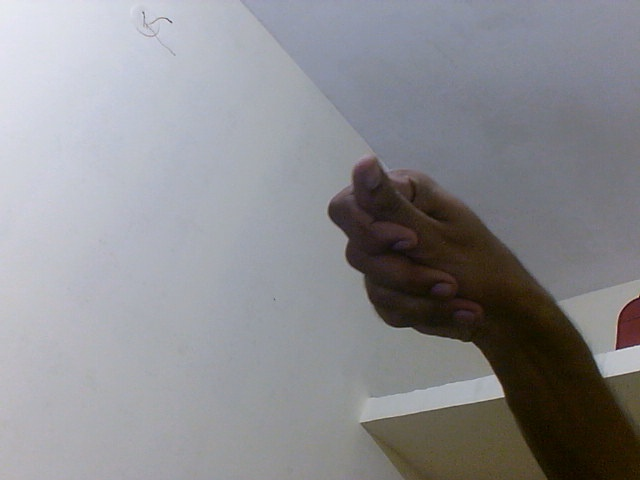hand: (326, 152, 531, 347)
